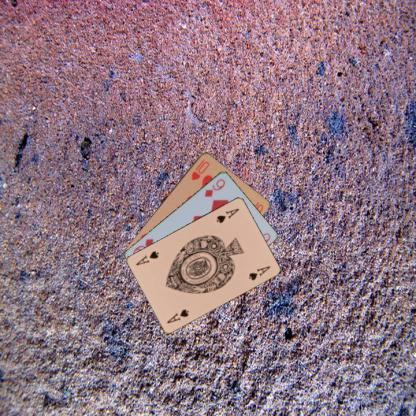10h: (189, 156, 210, 181)
9d: (202, 176, 227, 198)
As: (214, 205, 240, 224), (164, 306, 190, 325)
